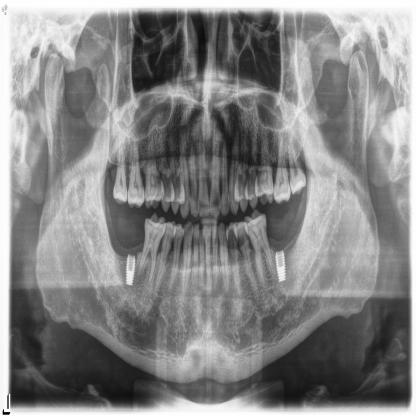Bicon: (272, 245, 290, 285), (124, 250, 138, 292)
